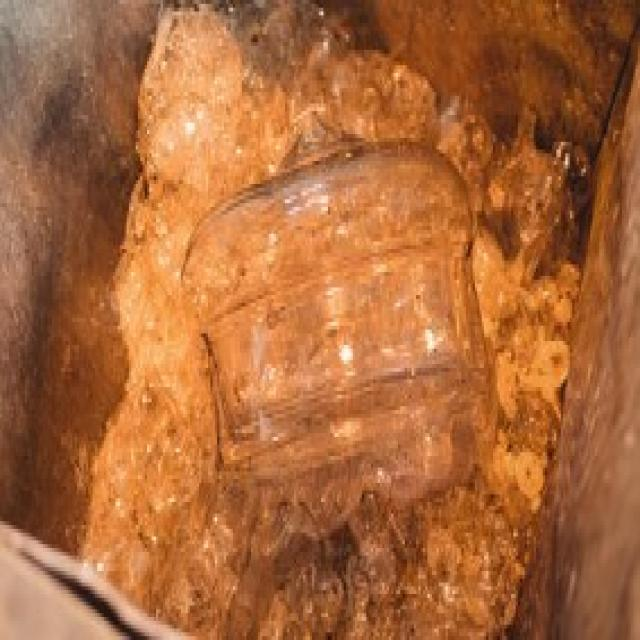electronic: (180, 139, 492, 514)
